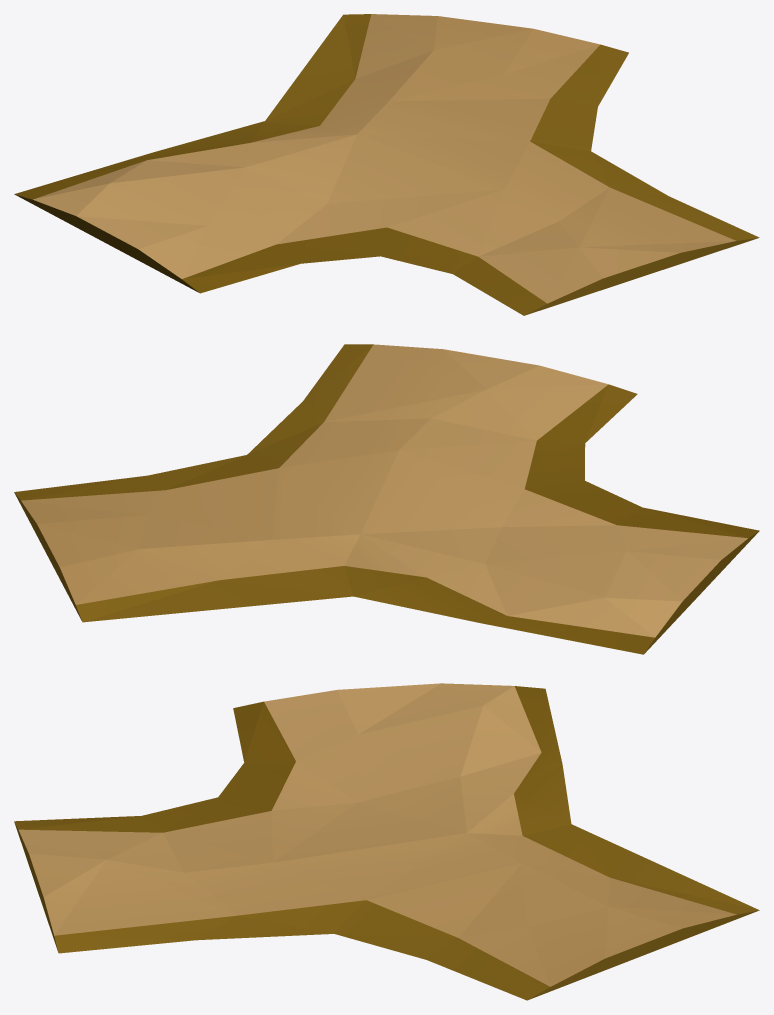
The model's file is Road_Y.fbx.
The picture shows the model from 3 angles, top to bottom: view 1: azimuth 30°, elevation 25°; view 2: azimuth 150°, elevation 25°; view 3: azimuth 270°, elevation 25°; orthographic projection. The views are drawn at different scales.
Visible parts, largest first — view 1: Road_Y; view 2: Road_Y; view 3: Road_Y.
Part boxes in pixels (x1,y1,x2,y2): Road_Y: [14, 14, 759, 315]; Road_Y: [14, 344, 759, 654]; Road_Y: [14, 683, 759, 1000].
Size of the model in its own units: 7 by 0.1796 by 7.07.
1 material, 1 textured.
